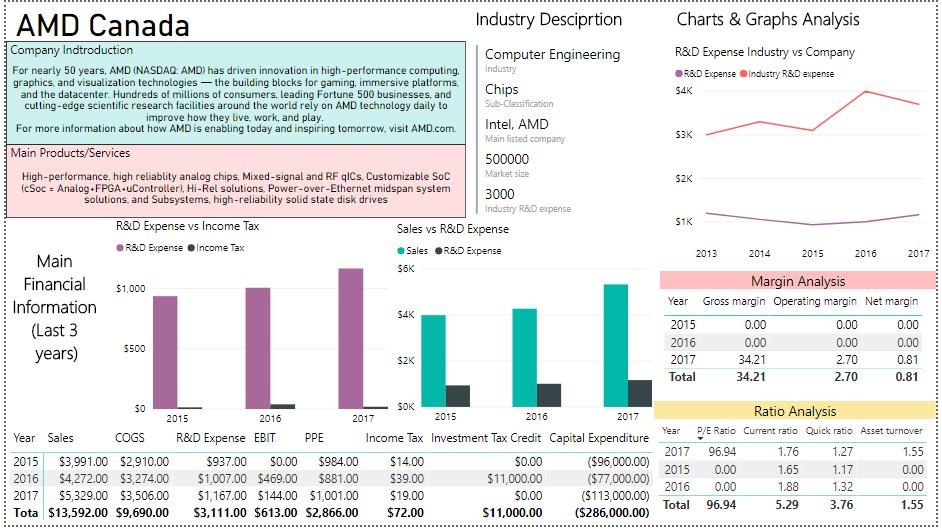

This screenshot's page, from the dashboard's own definition file:
{"tool":"powerbi","page":{"name":"Page 1","canvas":[1280,720],"ordinal":0},"visuals":[{"type":"lineChart","title":"R&D Expense Industry vs Company","fields":{"Category":["Coporate Data.Year"],"Y":["Sum(Coporate Data.Research & Development )","Sum(Industry Data.Industry R&D expense)"]},"box":[915.5,57.8,362.1,308.4],"z":1},{"type":"clusteredColumnChart","title":"Sales vs R&D Expense","fields":{"Category":["Coporate Data.Year"],"Y":["Sum(Coporate Data.Sales )","Sum(Coporate Data.R&D Expense)"]},"box":[532.8,301.5,362.1,289.1],"z":2},{"type":"clusteredColumnChart","title":"R&D Expense vs Income Tax","fields":{"Category":["Coporate Data.Year"],"Y":["Sum(Coporate Data.Research & Development )","Sum(Coporate Data.Income Tax)"]},"box":[145.9,297.4,385.5,296],"z":3},{"type":"card","title":"Company Indtroduction","fields":{"Values":["Min(Company LinkedIn Info.Main Operation)"]},"box":[0,53.7,633.3,143.2],"z":4},{"type":"card","title":"Main Products/Services","fields":{"Values":["Min(Company LinkedIn Info.Company Main Product/Services)"]},"box":[0,195.5,633.3,101.9],"z":5},{"type":"card","fields":{"Values":["Min(Company LinkedIn Info.Company Name)"]},"box":[0,0,267.1,54.2],"z":6},{"type":"textbox","box":[641.5,0,278.1,55.1],"z":7},{"type":"multiRowCard","fields":{"Values":["Industry Data.Industry","Industry Data.Sub-Classification","Industry Data.Main listed company","Industry Data.Market size","Industry Data.Industry R&D expense"]},"box":[641.5,53.7,210.6,245],"z":8},{"type":"textbox","box":[918.2,0,275.3,55.1],"z":9},{"type":"pivotTable","fields":{"Rows":["Coporate Data.Year"],"Values":["Sum(Coporate Data.Sales )","Sum(Coporate Data.COGS)","Sum(Coporate Data.R&D Expense)","Sum(Coporate Data.EBIT)","Sum(Coporate Data.PPE)","Sum(Coporate Data.Income Tax)","Sum(Coporate Data.Investment Tax Credit)","Sum(Coporate Data.Capital Expenditure)"]},"box":[0,582.3,903.1,136.3],"z":10},{"type":"textbox","box":[0,333.2,140.4,209.3],"z":11},{"type":"tableEx","title":"Ratio Analysis","fields":{"Values":["Coporate Data.Year","Sum(Coporate Data.P/E Ratio)","Sum(Coporate Data.Current ratio)","Sum(Coporate Data.Quick ratio)","Sum(Coporate Data.Asset turnover)"]},"box":[892.1,549.3,388.2,169.3],"z":12},{"type":"tableEx","title":"Margin Analysis","fields":{"Values":["Coporate Data.Year","Sum(Coporate Data.Gross margin)","Sum(Coporate Data.Operating margin)","Sum(Coporate Data.Net margin)"]},"box":[900.3,370.3,380,162.4],"z":14}]}

Visuals, with their boxes in screenshot pixels (x1, y1, x2, y2), scaled from the page's 1280x720 canvas onto the 942x529 screenshot:
"R&D Expense Industry vs Company" lineChart: 674 42 940 269
"Sales vs R&D Expense" clusteredColumnChart: 392 222 659 434
"R&D Expense vs Income Tax" clusteredColumnChart: 107 219 391 436
"Company Indtroduction" card: 0 39 466 145
"Main Products/Services" card: 0 144 466 219
card - Min(Company LinkedIn Info.Company Name): 0 0 197 40
textbox: 472 0 677 40
multiRowCard - Industry Data.Industry x Industry Data.Sub-Classification: 472 39 627 219
textbox: 676 0 878 40
pivotTable - Coporate Data.Year x Sum(Coporate Data.Sales ): 0 428 665 528
textbox: 0 245 103 399
"Ratio Analysis" tableEx: 657 404 941 528
"Margin Analysis" tableEx: 663 272 941 391
